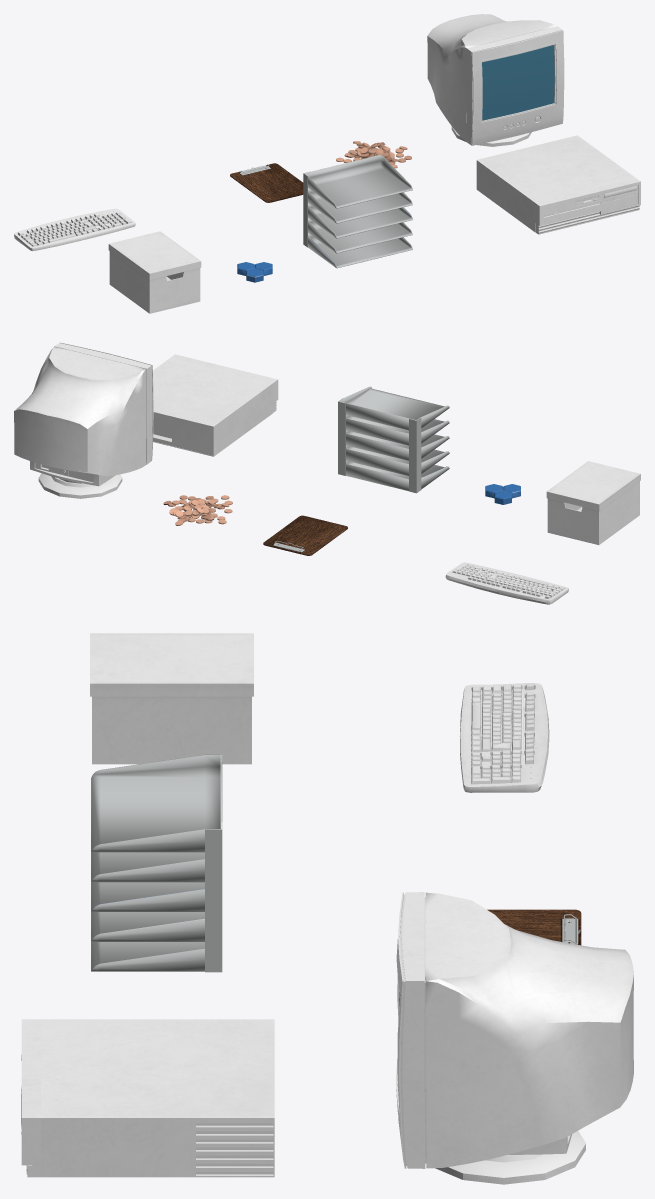
Rendered from video_store_stuff.glb.
3 renders of one model, top to bottom at view 1: azimuth 30°, elevation 25°; view 2: azimuth 150°, elevation 25°; view 3: azimuth 270°, elevation 25°, orthographic. The views are drawn at different scales.
Parts seen in each view (by area): view 1: retro_computer_28, monitor_shell_12, letter_rack_02_26, monitor_screen_10, box_32, lid_30, keyboard_6, clipboard_2, coin_pile_01_4, hexagon_paving_tile_24; view 2: monitor_shell_12, retro_computer_28, letter_rack_02_26, box_32, lid_30, keyboard_6, clipboard_2, coin_pile_01_4, monitor_base_8, hexagon_paving_tile_24; view 3: monitor_shell_12, retro_computer_28, letter_rack_02_26, box_32, lid_30, keyboard_6, monitor_base_8, clipboard_2.
Boxes of the visible parts, x1=… form: retro_computer_28: x1=476, y1=135, x2=640, y2=234; monitor_shell_12: x1=427, y1=14, x2=564, y2=145; letter_rack_02_26: x1=303, y1=154, x2=412, y2=268; monitor_screen_10: x1=482, y1=45, x2=554, y2=120; box_32: x1=109, y1=251, x2=200, y2=313; lid_30: x1=108, y1=231, x2=201, y2=280; keyboard_6: x1=14, y1=208, x2=135, y2=251; clipboard_2: x1=230, y1=163, x2=303, y2=202; coin_pile_01_4: x1=336, y1=141, x2=411, y2=168; hexagon_paving_tile_24: x1=237, y1=262, x2=272, y2=282; monitor_shell_12: x1=14, y1=342, x2=153, y2=486; retro_computer_28: x1=153, y1=354, x2=278, y2=456; letter_rack_02_26: x1=338, y1=386, x2=449, y2=493; box_32: x1=547, y1=481, x2=639, y2=544; lid_30: x1=546, y1=461, x2=640, y2=510; keyboard_6: x1=445, y1=562, x2=568, y2=604; clipboard_2: x1=263, y1=515, x2=347, y2=555; coin_pile_01_4: x1=163, y1=495, x2=232, y2=525; monitor_base_8: x1=38, y1=473, x2=122, y2=498; hexagon_paving_tile_24: x1=485, y1=484, x2=520, y2=504; monitor_shell_12: x1=396, y1=892, x2=633, y2=1168; retro_computer_28: x1=21, y1=1019, x2=274, y2=1177; letter_rack_02_26: x1=91, y1=754, x2=222, y2=972; box_32: x1=92, y1=696, x2=251, y2=764; lid_30: x1=90, y1=633, x2=253, y2=696; keyboard_6: x1=459, y1=683, x2=549, y2=792; monitor_base_8: x1=435, y1=1131, x2=585, y2=1184; clipboard_2: x1=487, y1=909, x2=581, y2=945.
Bounding box in the file's own units: 2.54 × 0.5029 × 1.31.
Materials: 1 (1 with a texture image).
